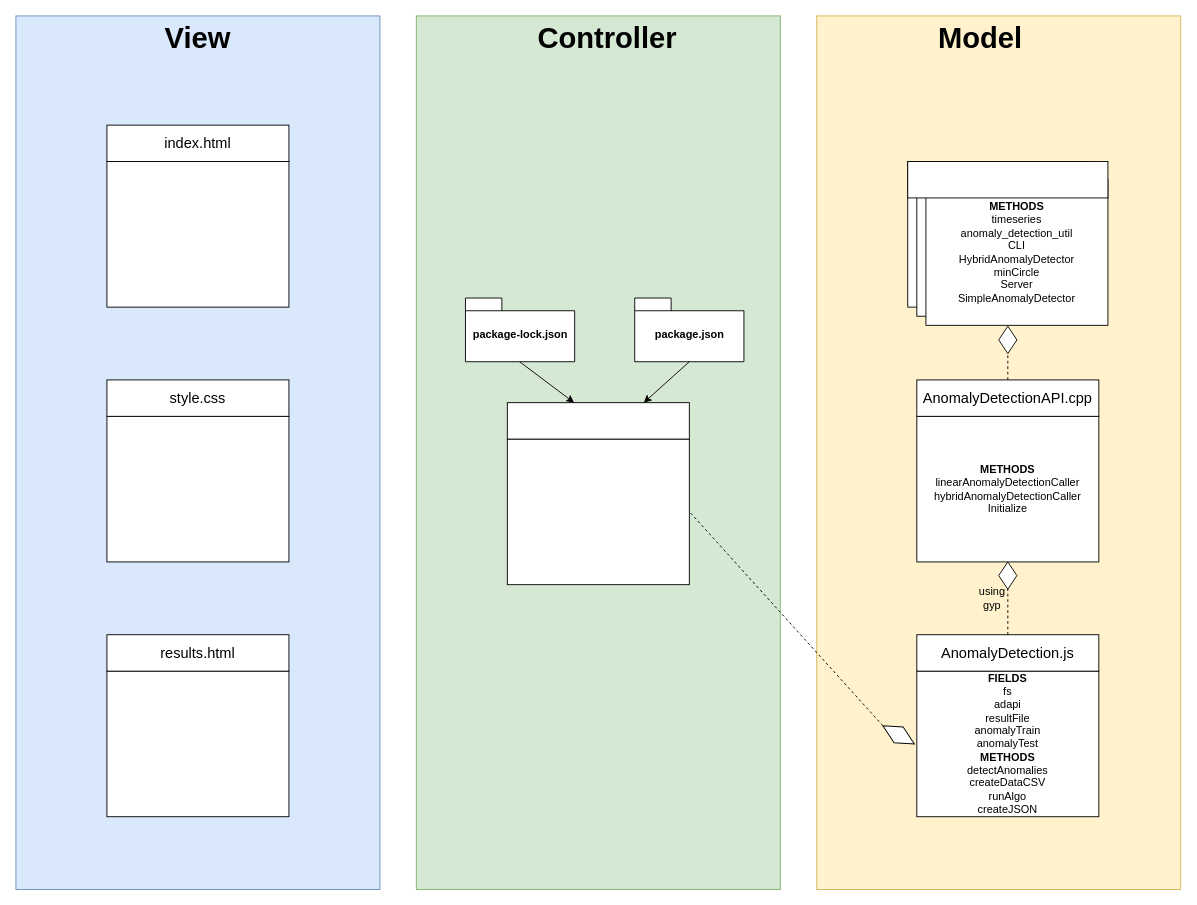
The diagram is 1197 pixels wide and 905 high, and some of its shapes have lost their labels. Each missing label, with the centre of its shape:
".cpp" belongs at pixel 1007 179.
"expServer.js" belongs at pixel 597 420.
"FIELDS path express fileUpload model app METHODS use get post" belongs at pixel 597 511.
